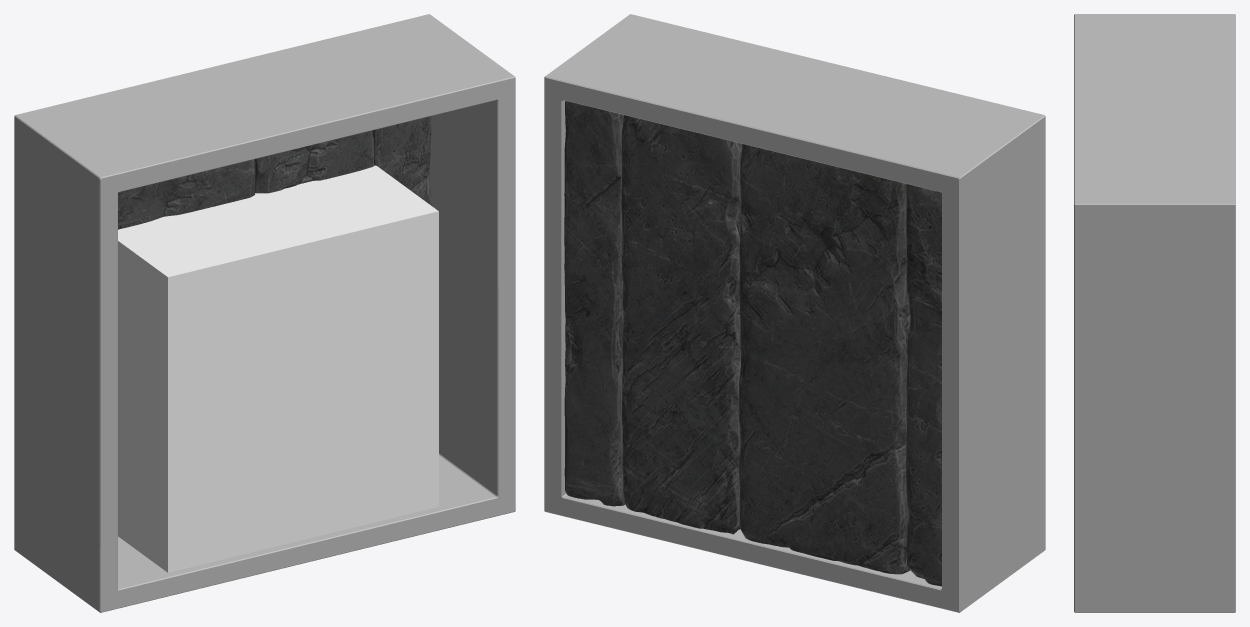
Rendered from showcase_stone_wall.glb.
3 views of the same model, side by side, from view 1: azimuth 30°, elevation 25°; view 2: azimuth 150°, elevation 25°; view 3: azimuth 270°, elevation 25° (orthographic). The views are drawn at different scales.
Visible parts, largest first — view 1: Rectangle001, placeholder, Object006, Object004, Object002; view 2: Rectangle001, Object006, Object004, Object002, Object008; view 3: Rectangle001.
Part boxes in pixels (<box>): Rectangle001: <box>14,14,515,612</box>; placeholder: <box>118,165,438,572</box>; Object006: <box>118,159,255,229</box>; Object004: <box>255,130,374,193</box>; Object002: <box>373,116,431,205</box>; Rectangle001: <box>544,14,1045,612</box>; Object006: <box>739,144,910,574</box>; Object004: <box>621,115,742,534</box>; Object002: <box>564,100,624,506</box>; Object008: <box>906,184,941,586</box>; Rectangle001: <box>1074,14,1235,612</box>.
Bounding box in the file's own units: 2.74 × 2.74 × 0.9838.
3 materials, 1 textured.
